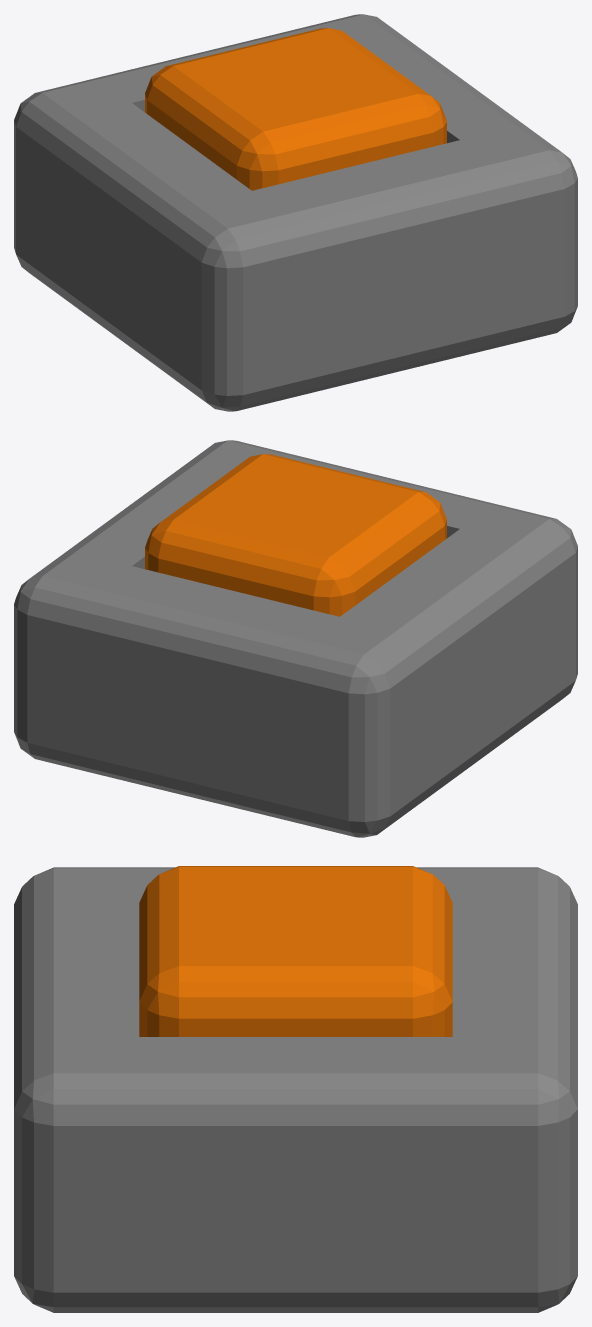
File: button.fbx
3 views of the same model, one above another, from view 1: azimuth 30°, elevation 25°; view 2: azimuth 150°, elevation 25°; view 3: azimuth 270°, elevation 25° (orthographic). The views are drawn at different scales.
Parts seen in each view (by area): view 1: button case, button; view 2: button case, button; view 3: button case, button.
Boxes of the visible parts, x1,y1,x2,y2 form: button case: [14, 14, 577, 411]; button: [145, 28, 446, 190]; button case: [14, 440, 577, 837]; button: [145, 454, 446, 616]; button case: [14, 867, 577, 1312]; button: [139, 866, 452, 1036].
Bounding box in the file's own units: 200 × 115 × 200.
